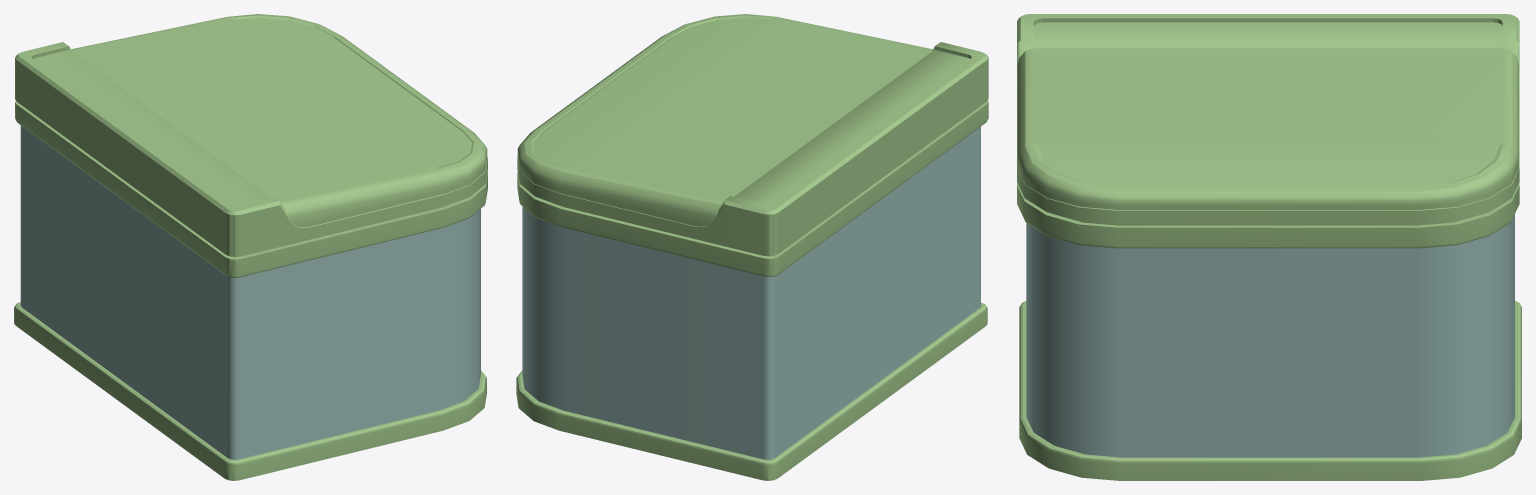
File: Fish_Tank_PROP.FBX
3 renders of one model, left to right at view 1: azimuth 30°, elevation 25°; view 2: azimuth 150°, elevation 25°; view 3: azimuth 270°, elevation 25°, orthographic. The views are drawn at different scales.
Parts seen in each view (by area): view 1: polySurface108; view 2: polySurface108; view 3: polySurface108.
Boxes of the visible parts, <box> form: polySurface108: <box>14,14,487,480</box>; polySurface108: <box>516,14,988,480</box>; polySurface108: <box>1017,14,1521,480</box>.
Bounding box in the file's own units: 0.8576 × 0.7611 × 1.13.
